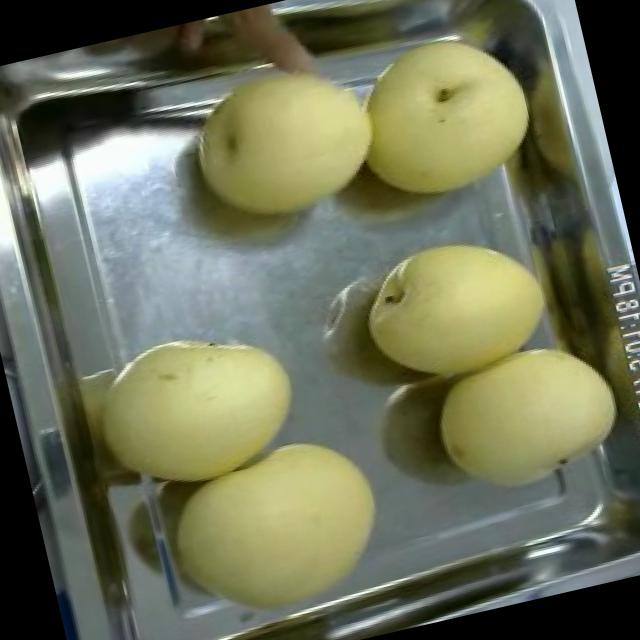Fruit: (138, 407, 410, 640), (74, 302, 324, 520), (167, 32, 400, 250), (331, 7, 560, 224), (409, 319, 640, 519), (340, 207, 568, 404)
